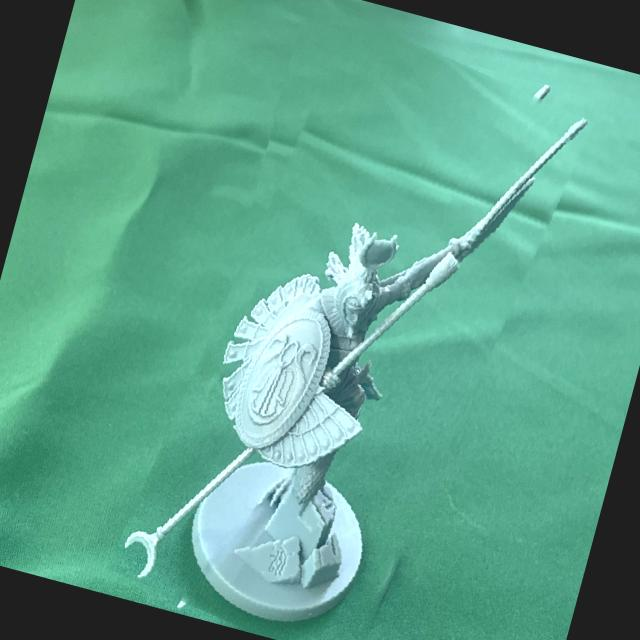isis: (122, 4, 580, 640)
